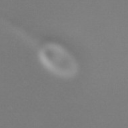normal: (1, 4, 41, 49)
